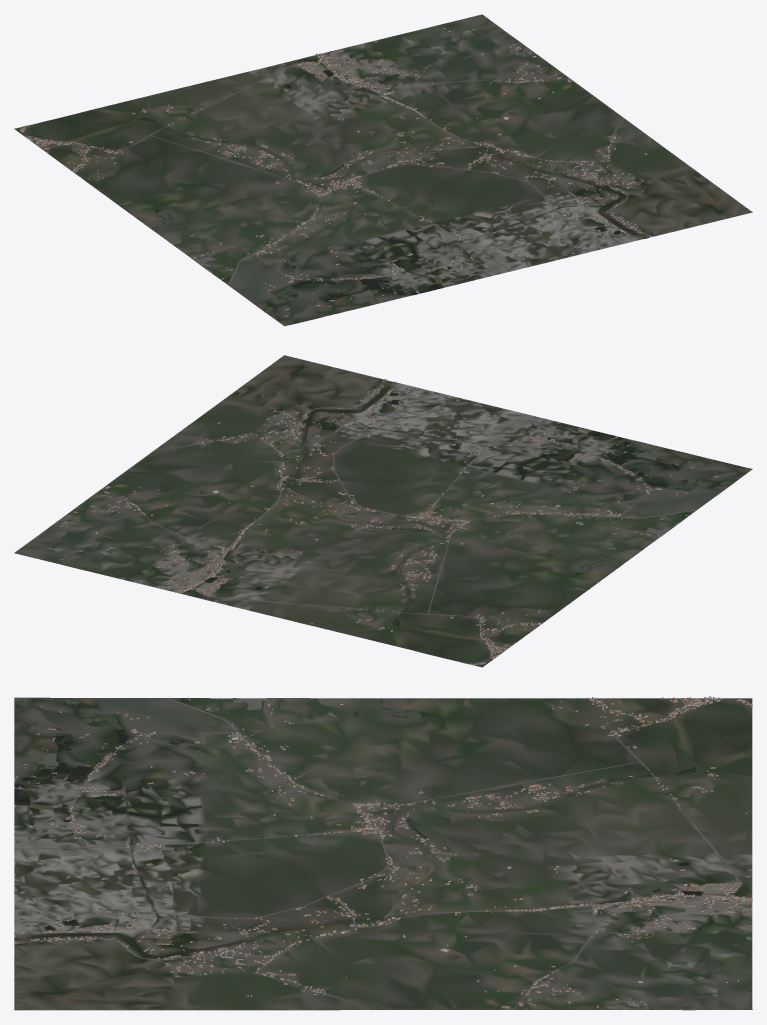
3 renders of one model, top to bottom at view 1: azimuth 30°, elevation 25°; view 2: azimuth 150°, elevation 25°; view 3: azimuth 270°, elevation 25°, orthographic. The views are drawn at different scales.
Parts seen in each view (by area): view 1: ground, buildings, water, roads; view 2: ground, buildings, water, roads; view 3: ground, buildings, water, roads.
Part boxes in pixels (x1,y1,x2,y2): ground: [14, 14, 752, 326]; buildings: [19, 28, 651, 316]; water: [31, 30, 645, 324]; roads: [31, 59, 653, 293]; ground: [14, 355, 752, 667]; buildings: [60, 379, 734, 665]; water: [68, 381, 747, 658]; roads: [102, 379, 696, 655]; ground: [14, 697, 752, 1010]; buildings: [14, 696, 752, 1009]; water: [14, 698, 752, 985]; roads: [14, 697, 752, 1010].
Size of the model in its own units: 5617 by 31.54 by 5615.
